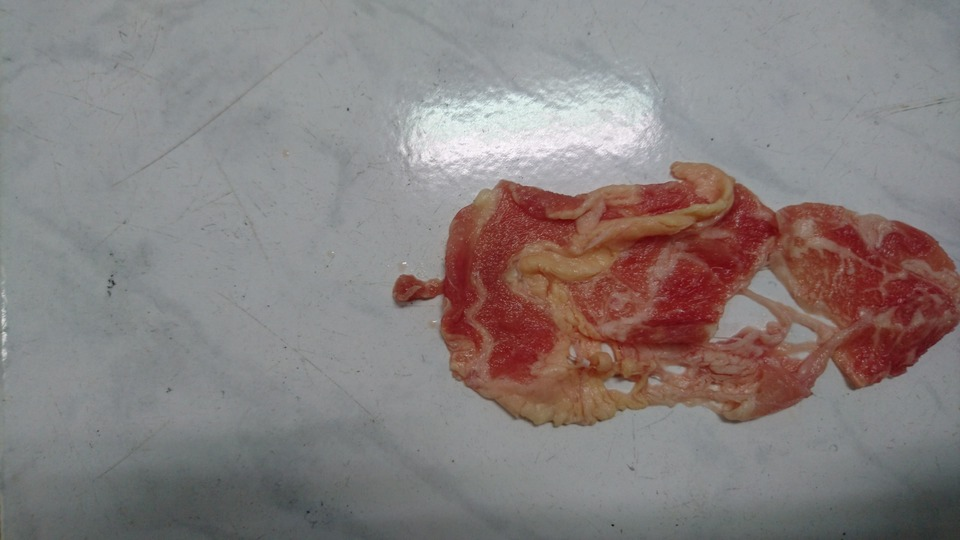restructured meat: (391, 170, 957, 421)
